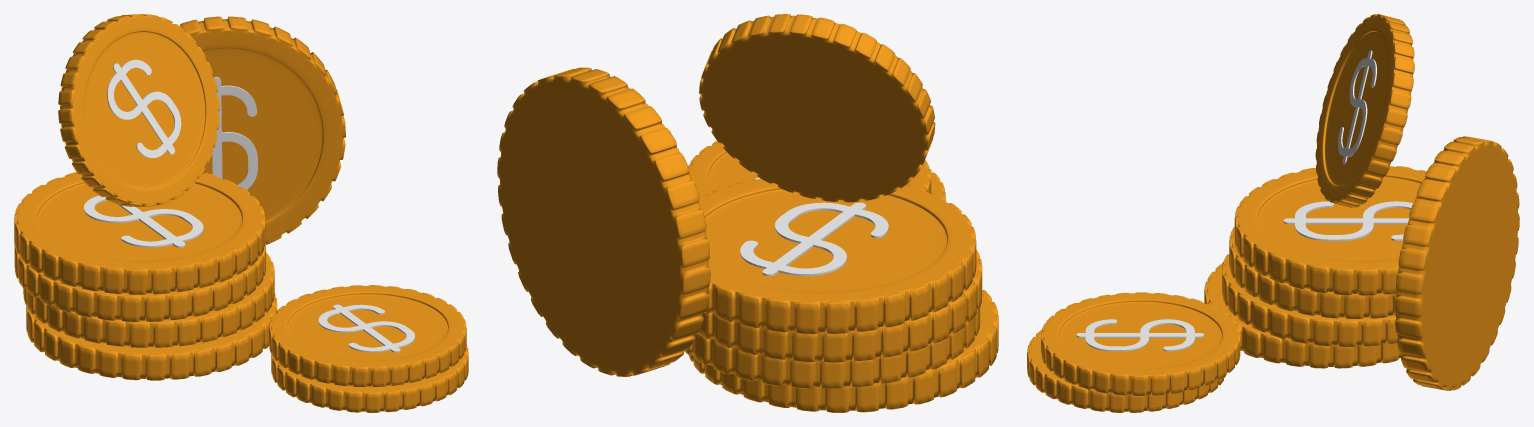
The model's file is coins-3d-animated-icon-383357157672.glb.
The picture shows the model from 3 angles, left to right: view 1: azimuth 30°, elevation 25°; view 2: azimuth 150°, elevation 25°; view 3: azimuth 270°, elevation 25°; orthographic projection. The views are drawn at different scales.
Visible parts, largest first — view 1: Cylinder.007, Cylinder.003, Cylinder.004, Cylinder.006, Cylinder, Cylinder.002, Cylinder.001, Cylinder.005, Curve.004, Curve.003, Curve.001, Curve.002; view 2: Cylinder.004, Cylinder.007, Cylinder.003, Cylinder.002, Cylinder, Cylinder.001, Curve.003, Cylinder.006; view 3: Cylinder.004, Cylinder.003, Cylinder.006, Cylinder.007, Cylinder.001, Cylinder, Cylinder.002, Cylinder.005, Curve.003, Curve.002, Curve.004.
Boxes of the visible parts, x1,y1,x2,y2 form: Cylinder.007: [58, 14, 219, 206]; Cylinder.003: [14, 172, 265, 294]; Cylinder.004: [180, 16, 345, 244]; Cylinder.006: [269, 285, 466, 386]; Cylinder: [26, 293, 277, 380]; Cylinder.002: [14, 241, 265, 321]; Cylinder.001: [23, 252, 274, 347]; Cylinder.005: [271, 345, 468, 412]; Curve.004: [107, 59, 181, 158]; Curve.003: [83, 195, 203, 247]; Curve.001: [212, 77, 257, 189]; Curve.002: [318, 304, 415, 352]; Cylinder.004: [497, 67, 710, 376]; Cylinder.007: [699, 14, 935, 202]; Cylinder.003: [698, 178, 976, 334]; Cylinder.002: [698, 249, 982, 362]; Cylinder: [688, 290, 998, 412]; Cylinder.001: [684, 307, 980, 388]; Curve.003: [740, 202, 888, 276]; Cylinder.006: [688, 141, 931, 196]; Cylinder.004: [1394, 136, 1519, 390]; Cylinder.003: [1234, 166, 1426, 295]; Cylinder.006: [1041, 292, 1240, 396]; Cylinder.007: [1315, 14, 1414, 207]; Cylinder.001: [1222, 254, 1397, 347]; Cylinder: [1204, 263, 1401, 368]; Cylinder.002: [1229, 227, 1396, 318]; Cylinder.005: [1027, 330, 1225, 412]; Curve.003: [1283, 201, 1413, 241]; Curve.002: [1076, 319, 1203, 351]; Curve.004: [1338, 50, 1376, 164].
Size of the model in its own units: 2.99 by 2.41 by 3.68.
